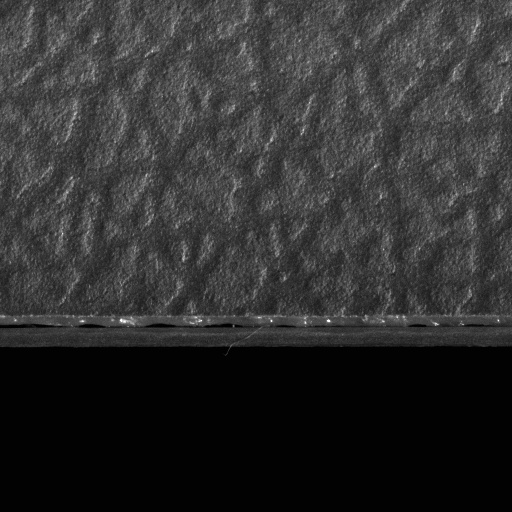kaijiao: (0, 310, 511, 352)
